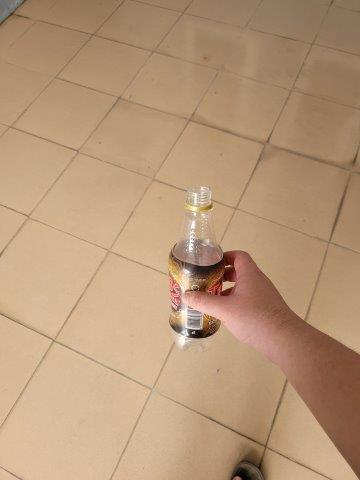botolplastik: (168, 187, 224, 352)
